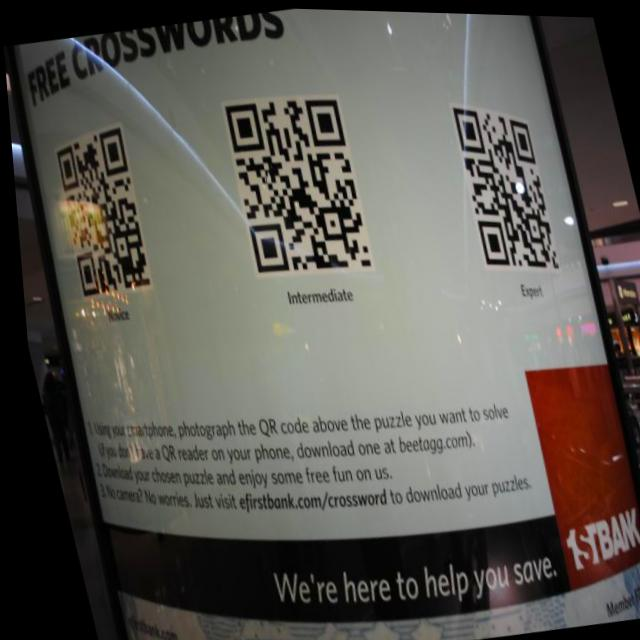qrcode: (217, 89, 374, 283), (447, 94, 559, 278), (44, 125, 154, 299)
